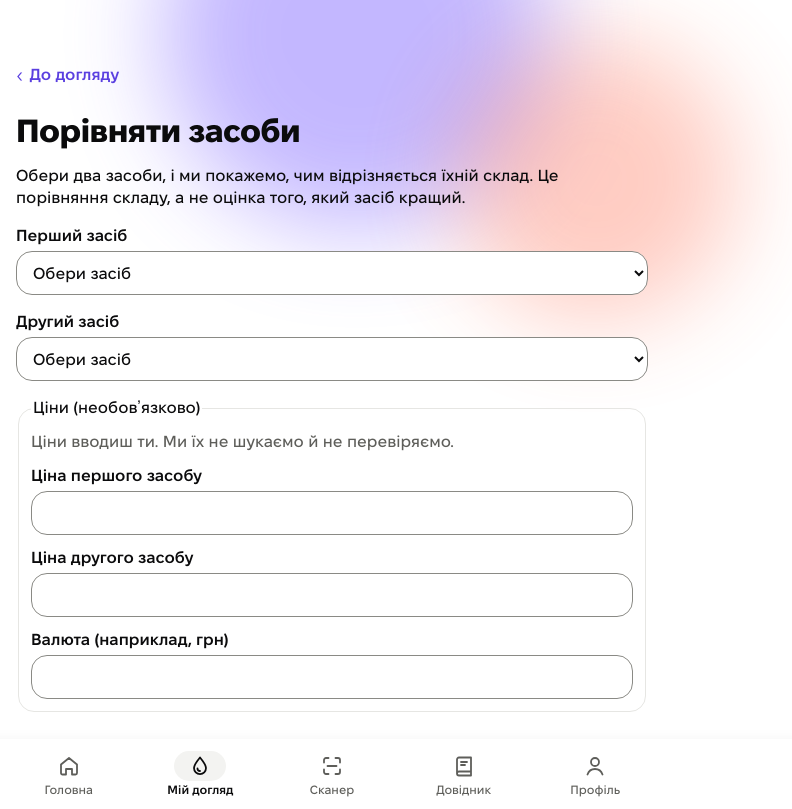
the compare screen › two serums with a shared active group: two columns, a verdict in words and the caption
Step 1. Select "Serum One" in the dropdown labelled "Перший засіб" → (332, 273), box [16,251,648,295]
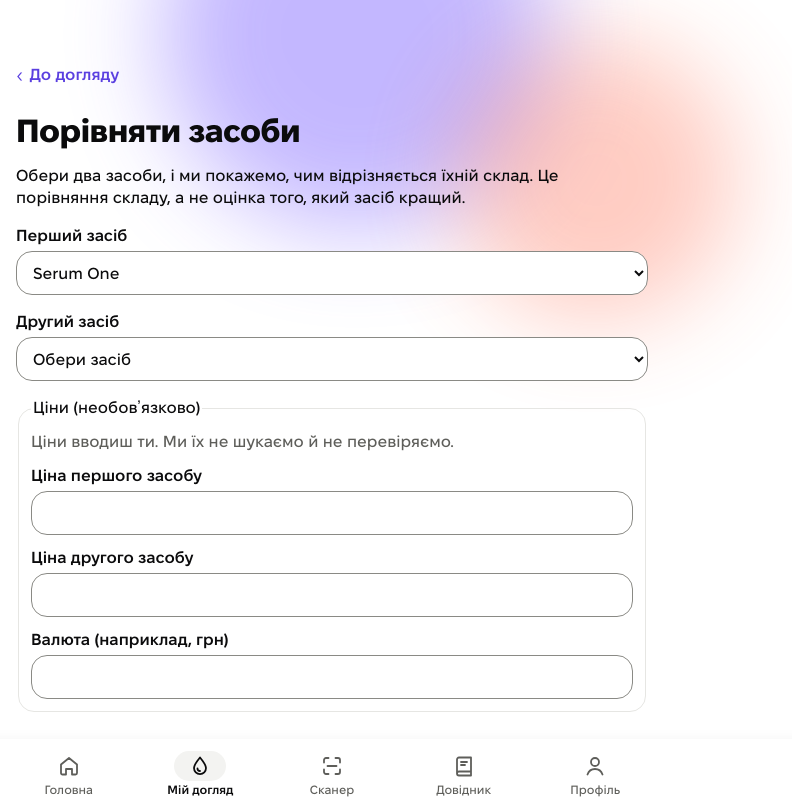
Step 2. Select "Serum Two" in the dropdown labelled "Другий засіб" → (332, 359), box [16,337,648,381]
(page scrolled)
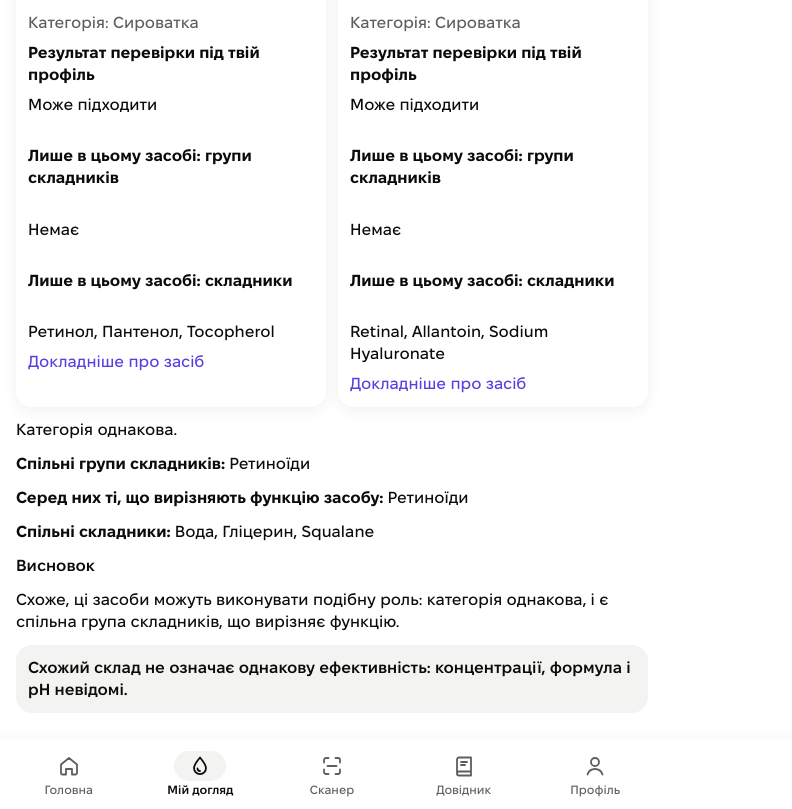
Expected: the text "Схоже, ці засоби можуть виконувати подібну роль: категорія однакова, і є спільна група складників, що вирізняє функцію." is shown, [16,591,608,630]
Expected: the text "Схожий склад не означає однакову ефективність: концентрації, формула і pH невідомі." is shown, [28,659,631,698]
Expected: the text "Категорія однакова." is shown, [16,421,177,438]
